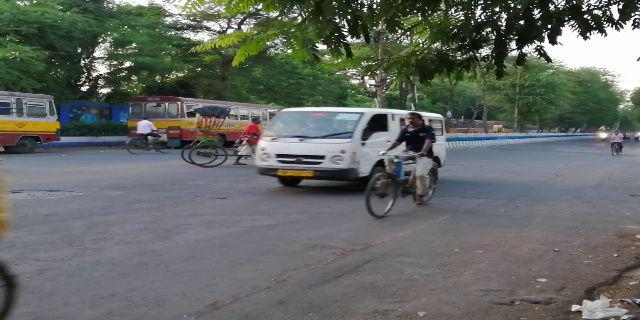Bus: (1, 85, 63, 155)
Cycle: (357, 113, 445, 221), (123, 113, 172, 153)
Minitruck: (253, 102, 452, 193)
Rickshaw: (179, 103, 250, 173)
